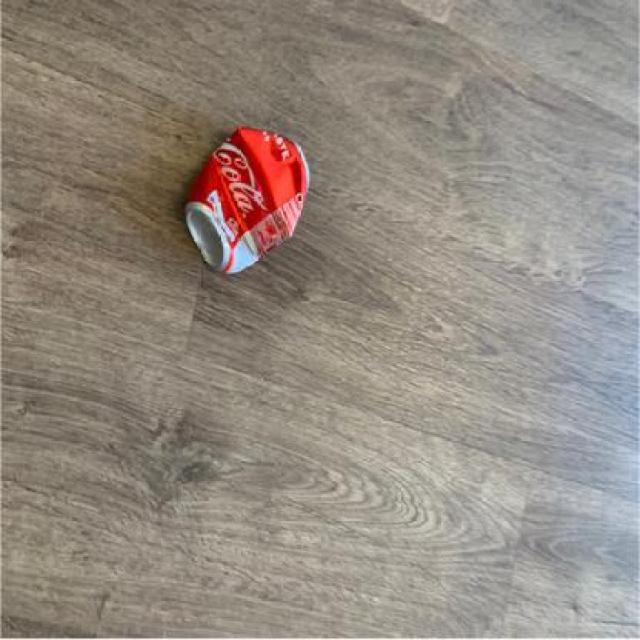Metal: (184, 125, 312, 274)
